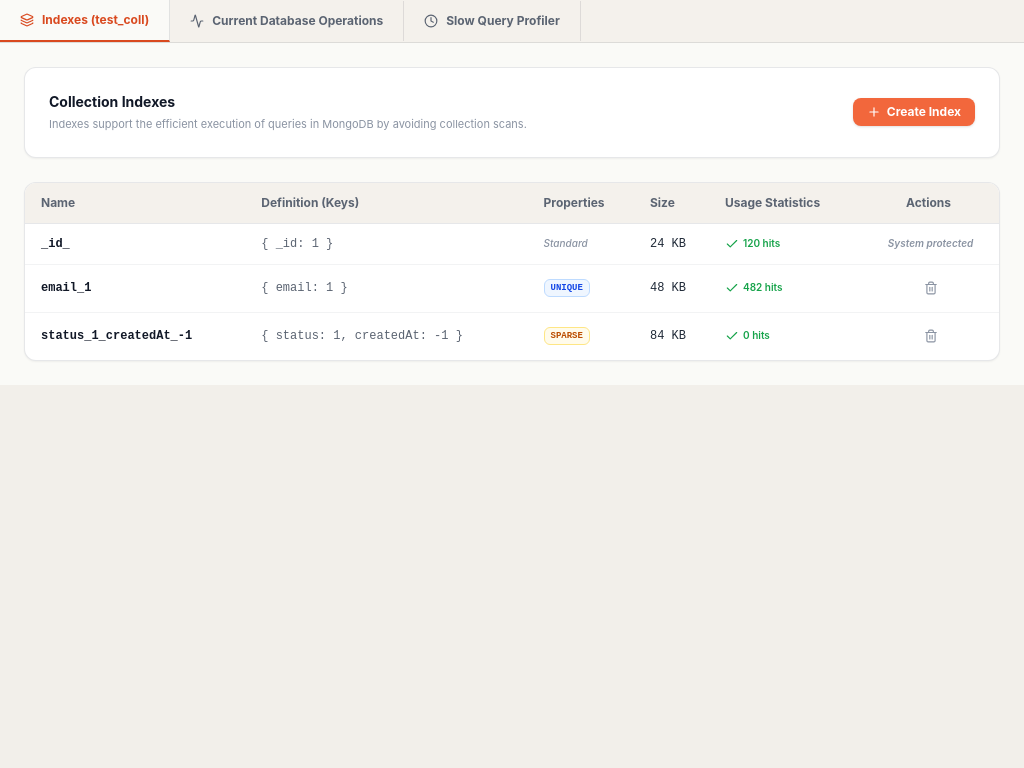
Test case: InvestigateView – Create Index modal › adds and removes index fields
Click the button "Create Index". click: click(914, 112)
box: x1=853 y1=98 x2=975 y2=126
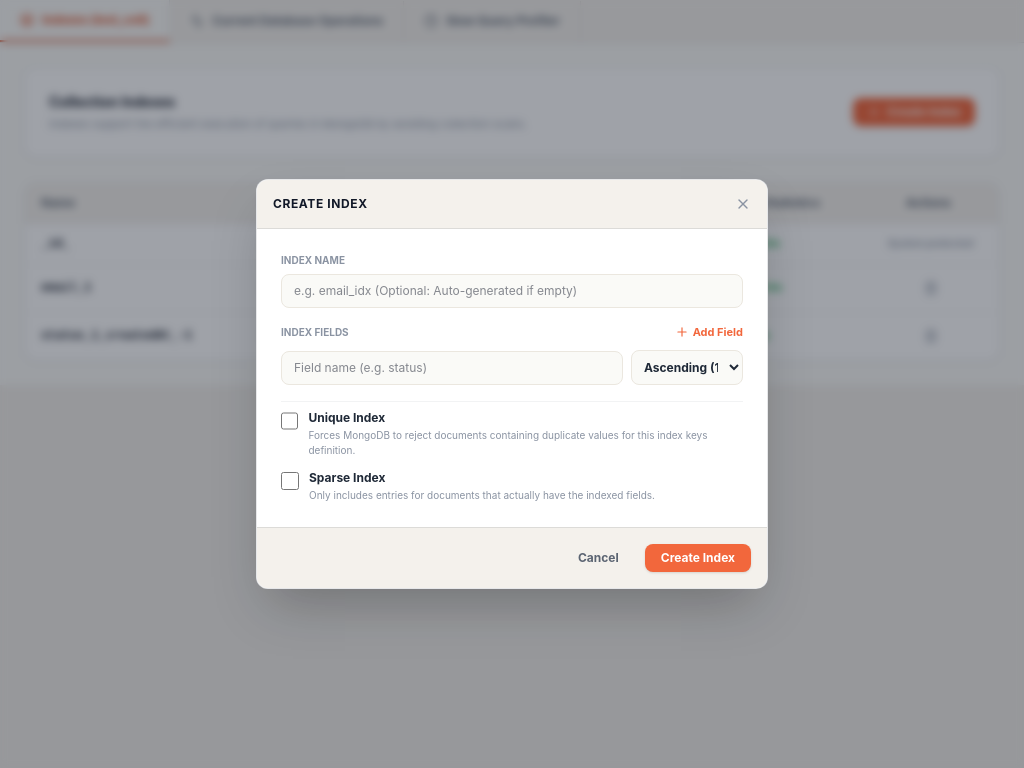
Click the button "Add Field". click: click(709, 332)
box: x1=675 y1=324 x2=743 y2=340
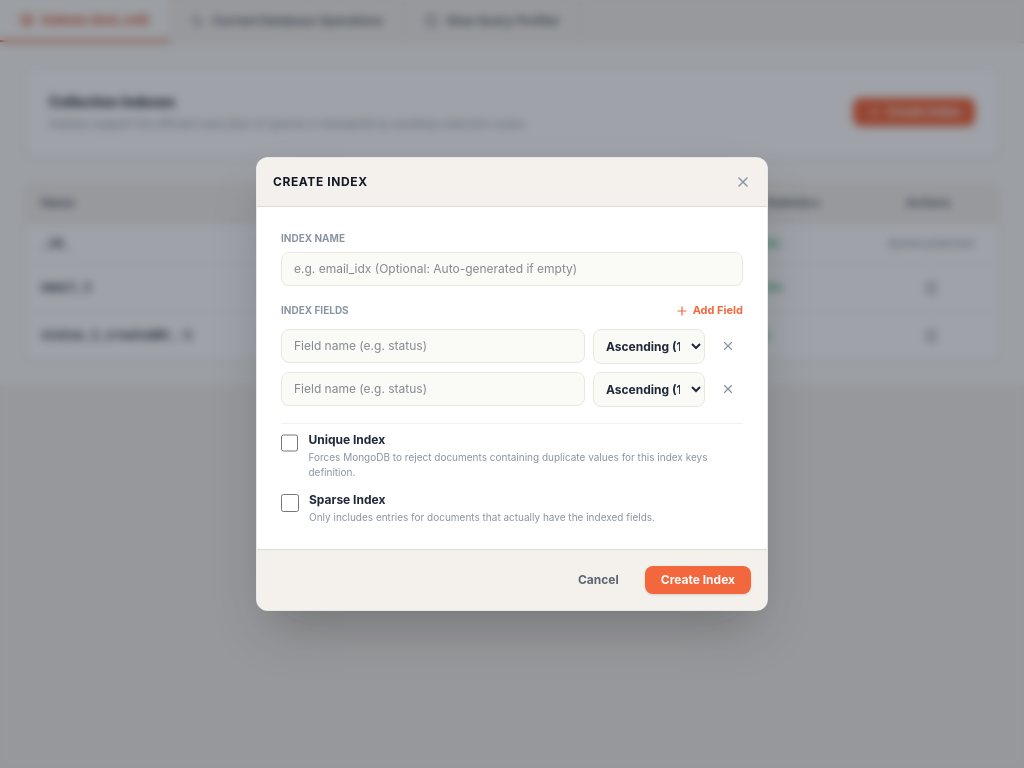
Expected: the number of fields with placeholder "Field name (e.g. status)" is 2
# Change field names
Type "status" into the 1st field with placeholder "Field name (e.g. status)". click: (433, 346)
box: x1=281 y1=329 x2=585 y2=363
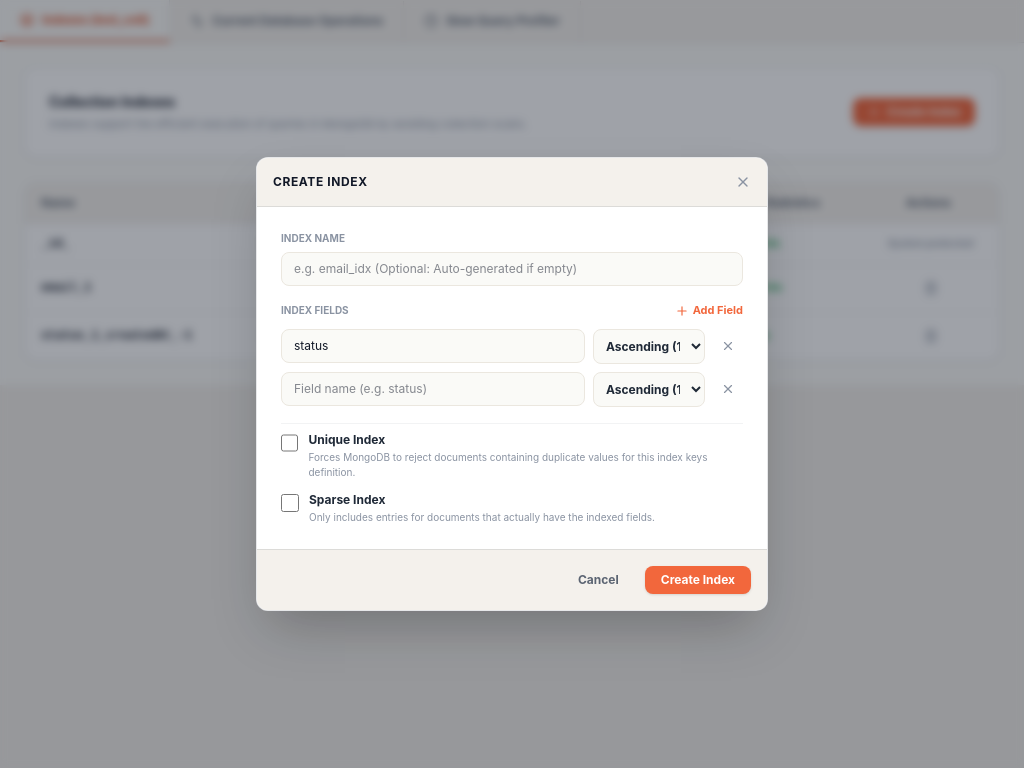
Type "createdAt" into the field with placeholder "Field name (e.g. status)". click: (433, 389)
box: x1=281 y1=372 x2=585 y2=406
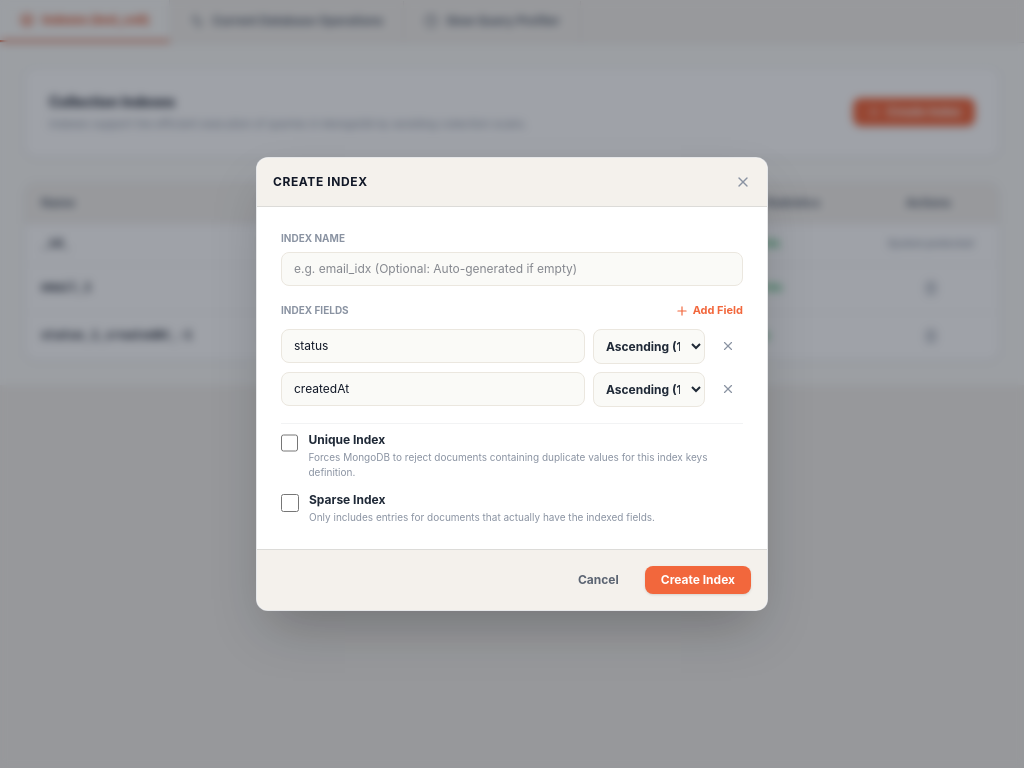
# Remove second field
Click the 1st button titled "Remove Field". click: click(728, 346)
box: x1=713 y1=331 x2=743 y2=361
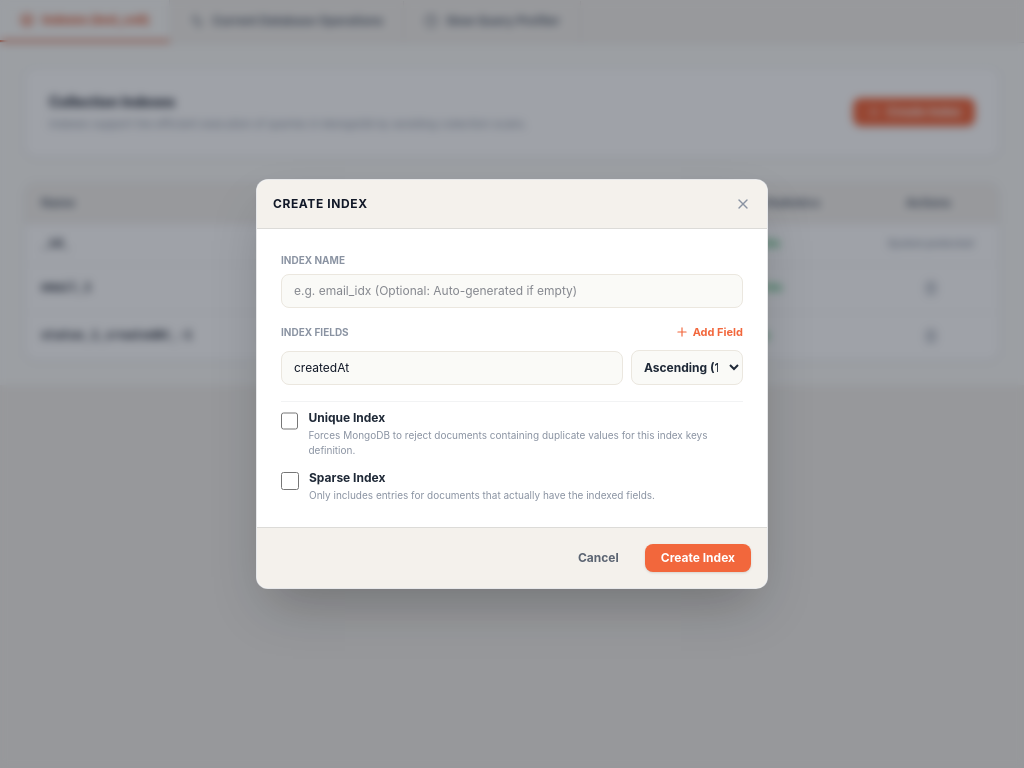
Expected: the number of fields with placeholder "Field name (e.g. status)" is 1, x1=281 y1=351 x2=623 y2=385
